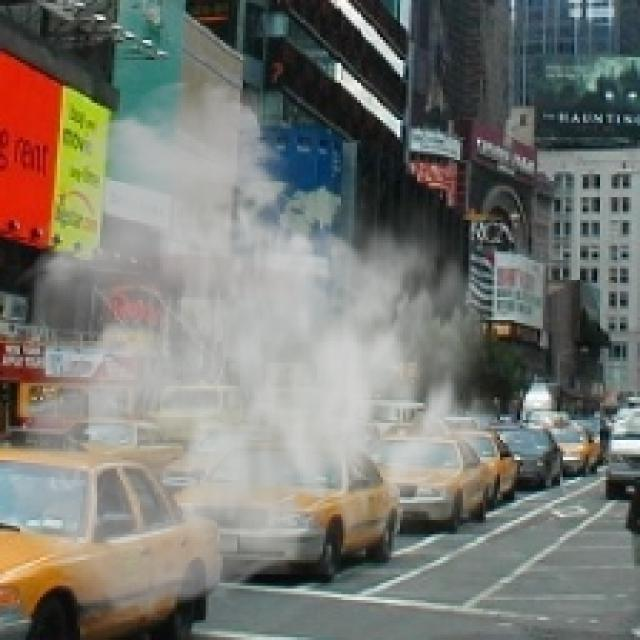smoke: (0, 74, 526, 629)
